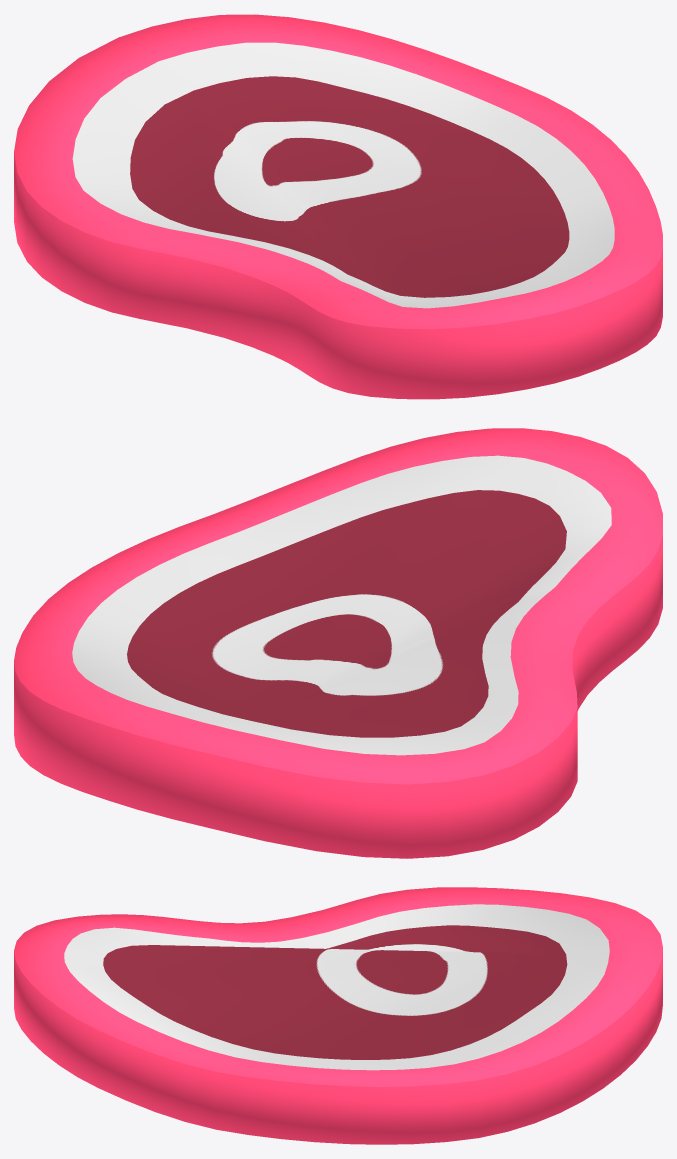
The model's file is Steak.fbx.
3 views of the same model, one above another, from view 1: azimuth 30°, elevation 25°; view 2: azimuth 150°, elevation 25°; view 3: azimuth 270°, elevation 25° (orthographic). The views are drawn at different scales.
Visible parts, largest first — view 1: Meat; view 2: Meat; view 3: Meat.
Part boxes in pixels (x1,y1,x2,y2): Meat: [14, 14, 662, 399]; Meat: [14, 428, 662, 858]; Meat: [14, 887, 662, 1144].
Bounding box in the file's own units: 264 × 192 × 40.13.
4 materials, 1 textured.
